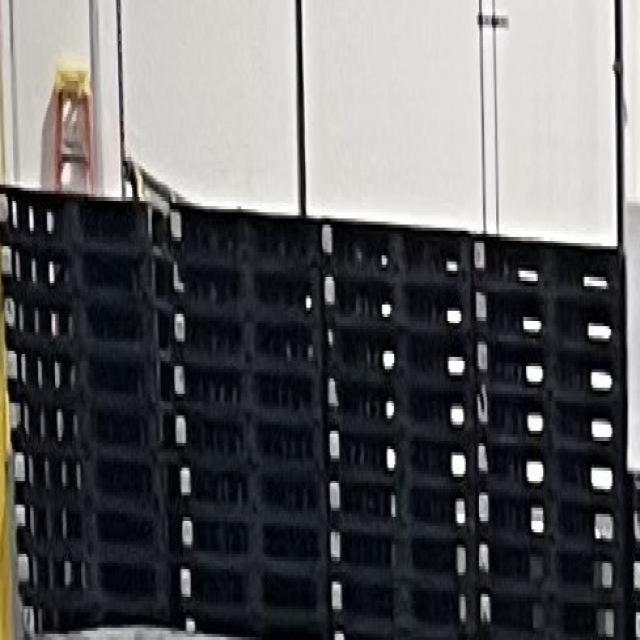igps: (0, 173, 167, 248), (0, 286, 168, 357), (164, 192, 320, 268), (471, 222, 628, 296), (154, 458, 329, 524), (5, 389, 165, 458), (156, 404, 327, 467), (474, 381, 630, 450), (9, 437, 162, 507), (0, 241, 167, 304), (12, 538, 165, 606), (167, 306, 325, 371), (477, 488, 631, 554), (165, 508, 330, 568), (473, 287, 630, 350), (319, 213, 472, 277), (164, 558, 331, 616), (3, 342, 164, 402), (476, 436, 630, 498), (323, 322, 477, 382), (474, 335, 630, 394), (321, 270, 474, 330), (325, 378, 476, 438), (476, 538, 631, 595), (162, 258, 322, 313), (326, 426, 477, 484), (167, 363, 325, 416), (478, 587, 632, 640), (327, 478, 478, 532), (10, 502, 163, 554), (328, 528, 478, 580), (329, 576, 478, 626), (16, 594, 174, 640), (173, 609, 347, 640), (331, 623, 394, 640)
